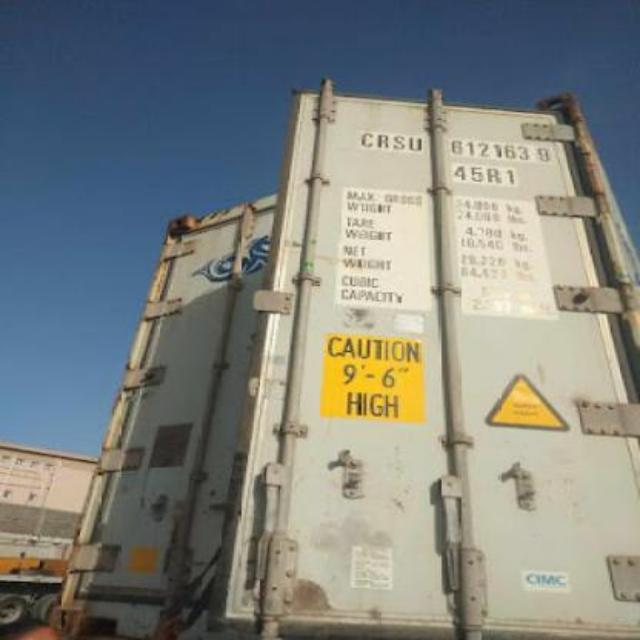1: (464, 139, 478, 157), (492, 144, 504, 160)
2: (476, 141, 492, 159)
3: (516, 144, 532, 164)
6: (504, 144, 518, 160), (451, 140, 464, 156)
9: (536, 145, 552, 165)
C: (362, 132, 374, 148)
R: (374, 134, 390, 150)
S: (392, 136, 408, 148)
U: (406, 137, 422, 153)
